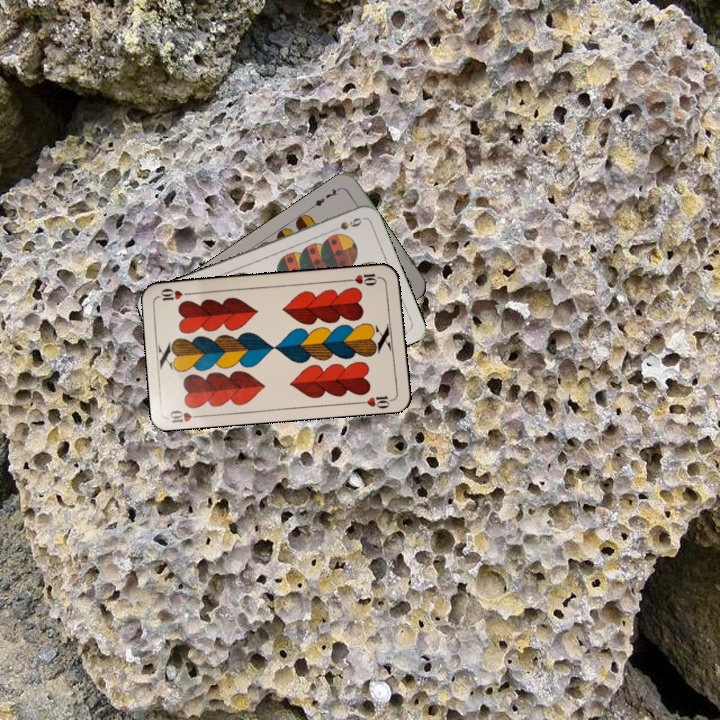E7: (307, 183, 343, 211)
H10: (344, 269, 384, 288), (166, 406, 206, 425)
S9: (326, 214, 365, 235)
